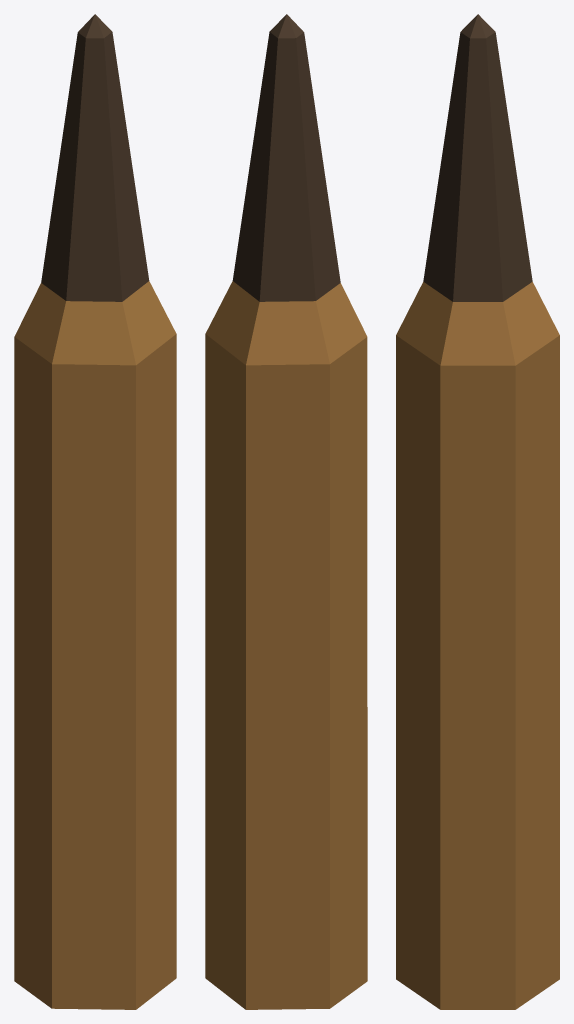
The model's file is weapons-bullet-50mm.glb.
3 views of the same model, side by side, from view 1: azimuth 30°, elevation 25°; view 2: azimuth 150°, elevation 25°; view 3: azimuth 270°, elevation 25° (orthographic).
Parts seen in each view (by area): view 1: bullet-50mm; view 2: bullet-50mm; view 3: bullet-50mm.
Boxes of the visible parts, <box> form: bullet-50mm: <box>14,14,176,1009</box>; bullet-50mm: <box>205,14,367,1009</box>; bullet-50mm: <box>396,14,559,1009</box>.
Bounding box in the file's own units: 0.0188 × 0.1391 × 0.0214.
